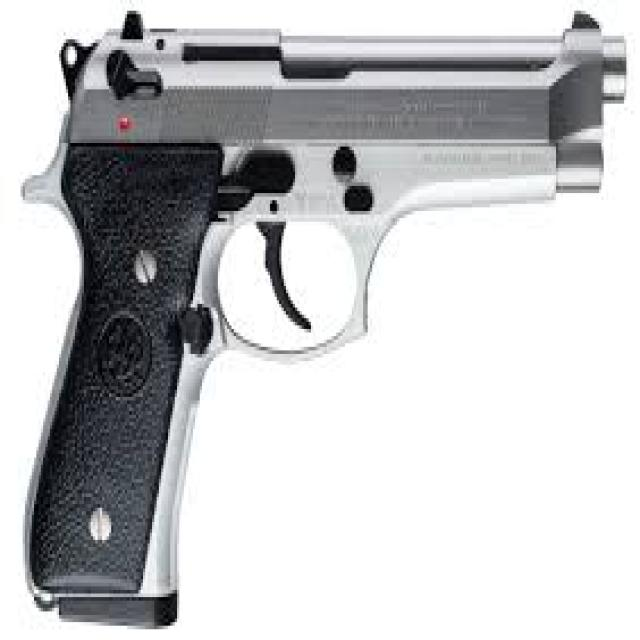pistol: (18, 3, 631, 639)
